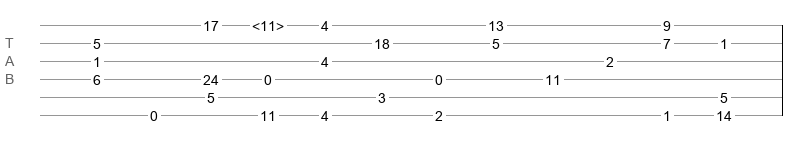0: (150, 108, 158, 118), (264, 72, 272, 82), (435, 72, 443, 82)
1: (93, 54, 101, 64), (663, 108, 671, 118), (720, 36, 728, 46)
11: (260, 108, 276, 118), (545, 72, 561, 82)
13: (488, 18, 504, 28)
14: (716, 108, 732, 118)
17: (203, 18, 219, 28)
18: (374, 36, 390, 46)
2: (435, 108, 443, 118), (606, 54, 614, 64)
24: (203, 72, 219, 82)
3: (378, 90, 386, 100)
4: (321, 54, 329, 64), (321, 18, 329, 28), (321, 108, 329, 118)
5: (93, 36, 101, 46), (207, 90, 215, 100), (492, 36, 500, 46), (720, 90, 728, 100)
6: (93, 72, 101, 82)
7: (663, 36, 671, 46)
9: (663, 18, 671, 28)
harmonic: (252, 18, 284, 28)
